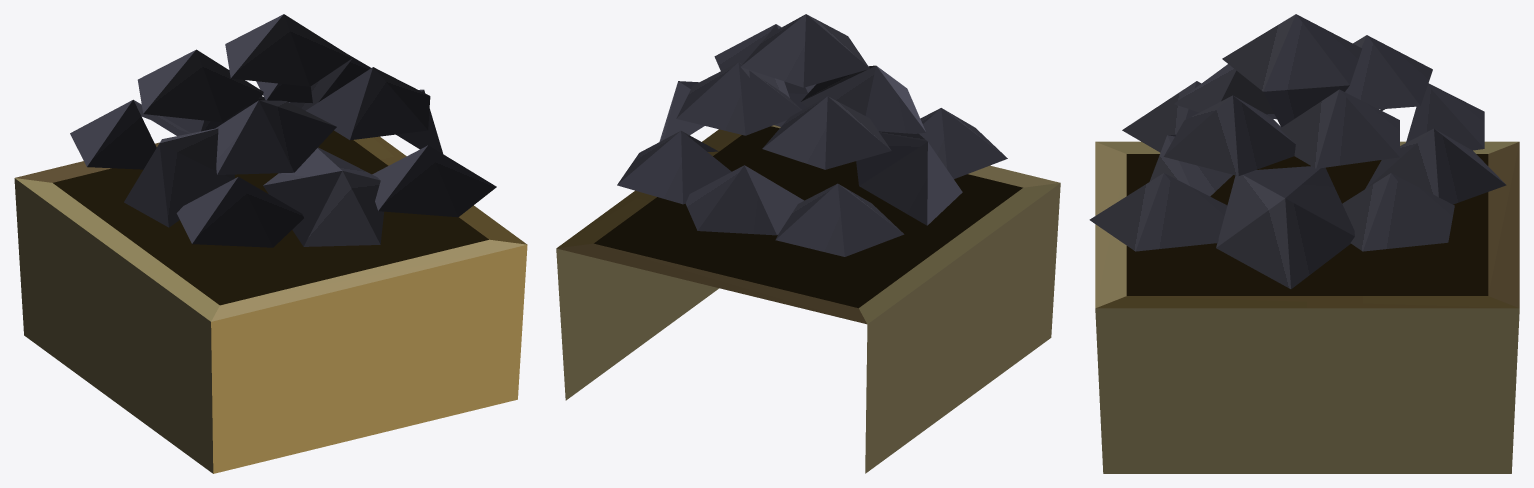
The model's file is village-decor06.fbx.
3 views of the same model, side by side, from view 1: azimuth 30°, elevation 25°; view 2: azimuth 150°, elevation 25°; view 3: azimuth 270°, elevation 25° (orthographic). The views are drawn at different scales.
Visible parts, largest first — view 1: village-decor06; view 2: village-decor06; view 3: village-decor06.
Boxes of the visible parts, x1,y1,x2,y2 form: village-decor06: (14, 14, 527, 473); village-decor06: (556, 14, 1060, 473); village-decor06: (1089, 14, 1519, 473).
Size of the model in its own units: 0.6698 by 0.71 by 0.7218.
Materials: 1 (1 with a texture image).
